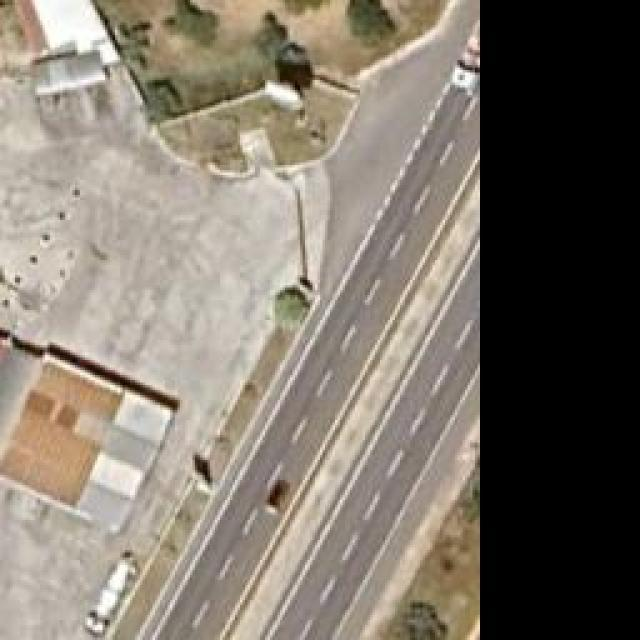Tree: (165, 0, 220, 48), (270, 283, 313, 326), (350, 0, 395, 38)
